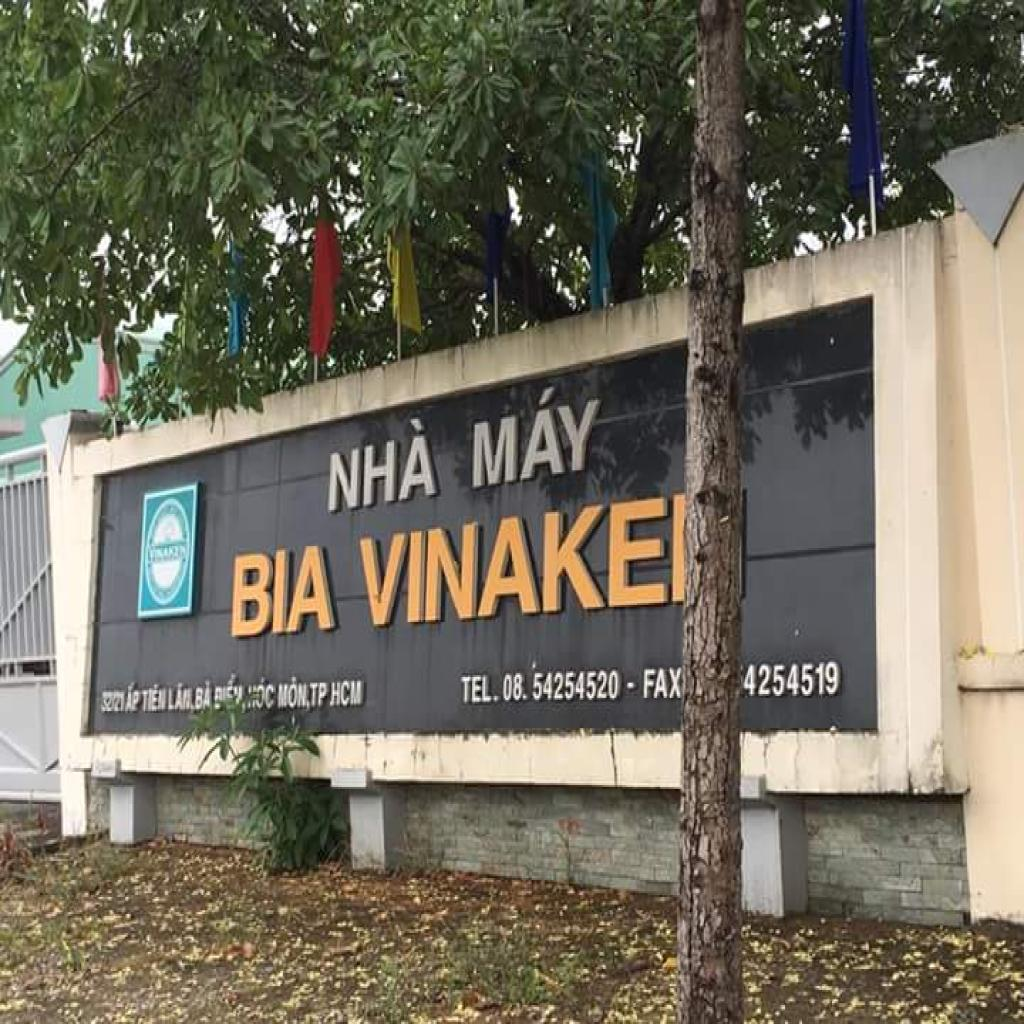text: (355, 488, 687, 632), (468, 379, 609, 493), (326, 412, 446, 518), (228, 538, 344, 641), (502, 668, 622, 706), (642, 666, 684, 706), (459, 672, 502, 706), (276, 673, 311, 713), (328, 677, 366, 711), (168, 681, 196, 717), (141, 681, 169, 715), (100, 688, 126, 715), (195, 679, 213, 715), (310, 679, 330, 711), (125, 681, 142, 717), (624, 681, 640, 690)
